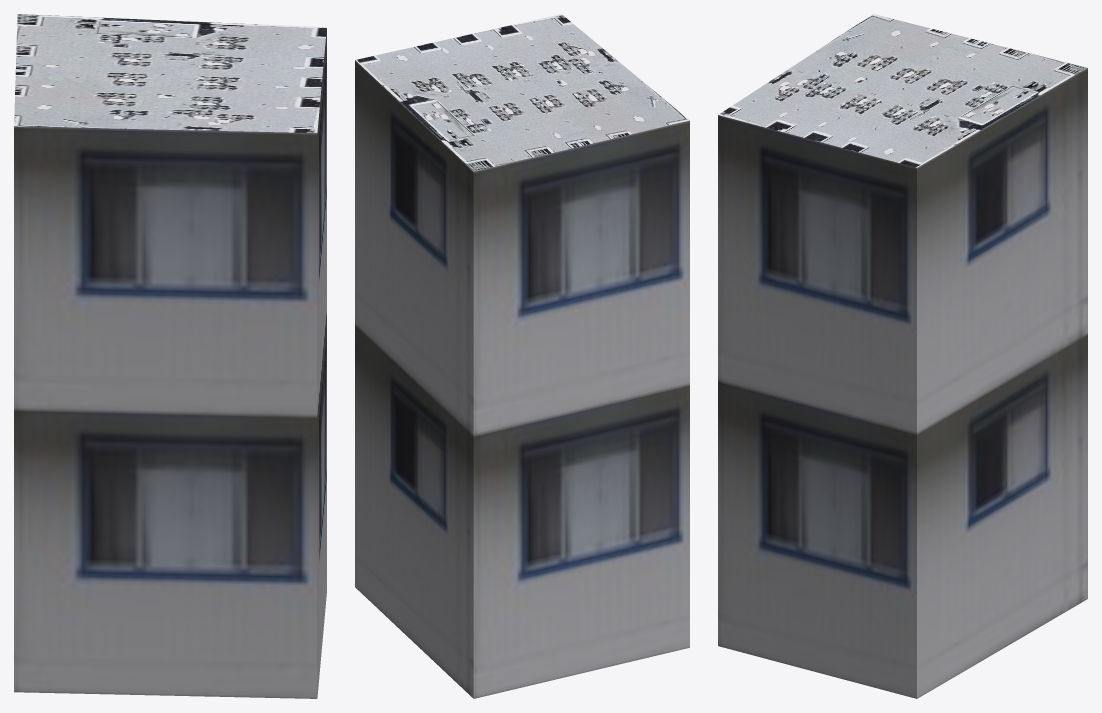
The model's file is ResTex__727.fbx.
3 renders of one model, left to right at view 1: azimuth 30°, elevation 25°; view 2: azimuth 150°, elevation 25°; view 3: azimuth 270°, elevation 25°, orthographic. The views are drawn at different scales.
Parts seen in each view (by area): view 1: CityEngineMaterial_9_m, CityEngineMaterial_4_m; view 2: CityEngineMaterial_9_m, CityEngineMaterial_4_m; view 3: CityEngineMaterial_9_m, CityEngineMaterial_4_m.
Part boxes in pixels (left/top/right/bottom): CityEngineMaterial_9_m: left=14, top=28, right=326, bottom=698; CityEngineMaterial_4_m: left=14, top=14, right=326, bottom=132; CityEngineMaterial_9_m: left=355, top=60, right=689, bottom=698; CityEngineMaterial_4_m: left=355, top=14, right=689, bottom=171; CityEngineMaterial_9_m: left=718, top=68, right=1087, bottom=698; CityEngineMaterial_4_m: left=718, top=14, right=1087, bottom=167.
Size of the model in its own units: 3.73 by 6 by 3.79.
Materials: 2 (2 with a texture image).
